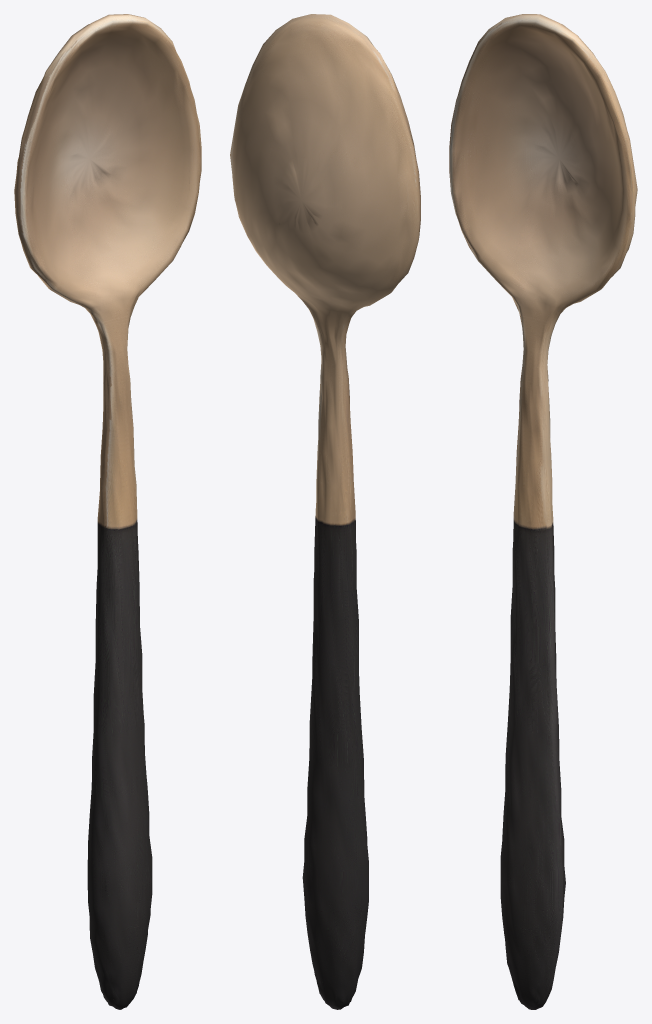
Rendered from Velo_Gold_and_Black_Tea_spoon_0225003256_texture.glb.
3 renders of one model, left to right at view 1: azimuth 30°, elevation 25°; view 2: azimuth 150°, elevation 25°; view 3: azimuth 330°, elevation 25°, orthographic.
Parts seen in each view (by area): view 1: Mesh_0; view 2: Mesh_0; view 3: Mesh_0.
Part boxes in pixels (bbox=[...]): Mesh_0: bbox=[14, 14, 201, 1009]; Mesh_0: bbox=[230, 14, 420, 1009]; Mesh_0: bbox=[449, 14, 637, 1009].
Size of the model in its own units: 0.0396 by 0.2032 by 0.0184.
1 material, 1 textured.
